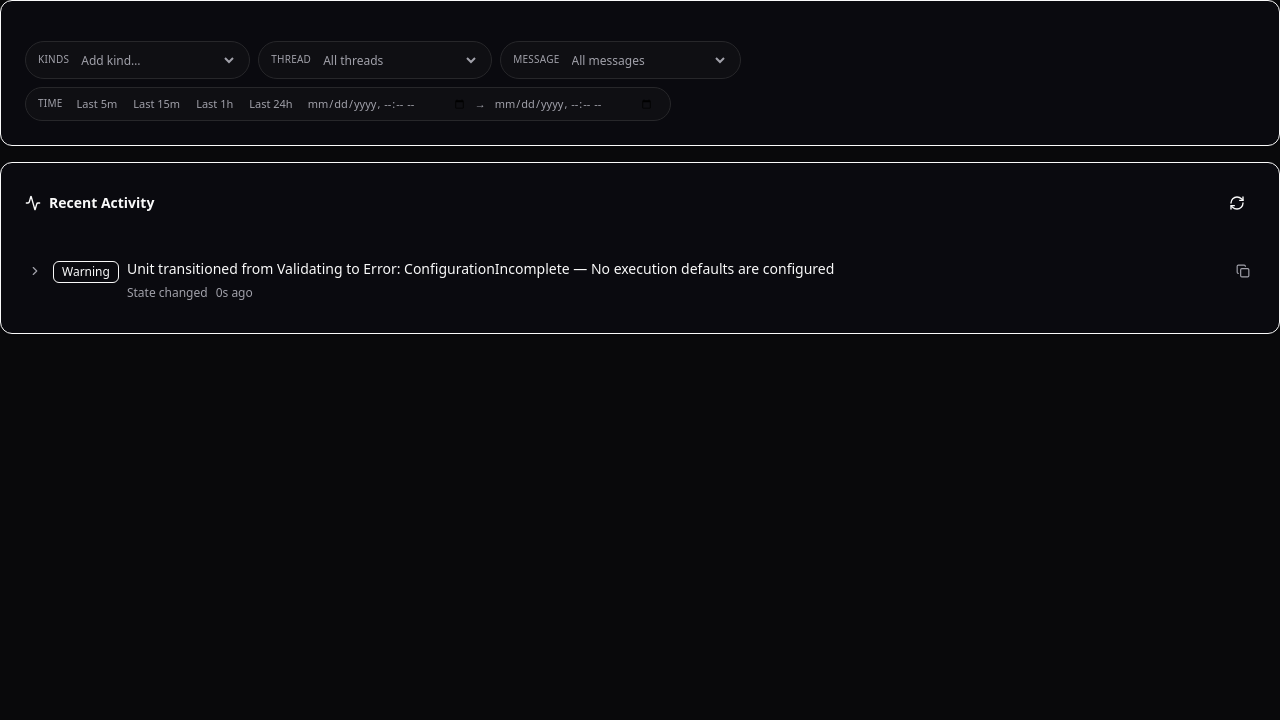
Scenario: ActivityTab (Unit subject) › renders an expand toggle for events with details and reveals payload on click
The image size is (1280, 720).
What coordinates should you click on to do the following:
click the button with test id "activity-row-toggle"
I would click on:
 (35, 271)
Its box is [25,261,45,281].
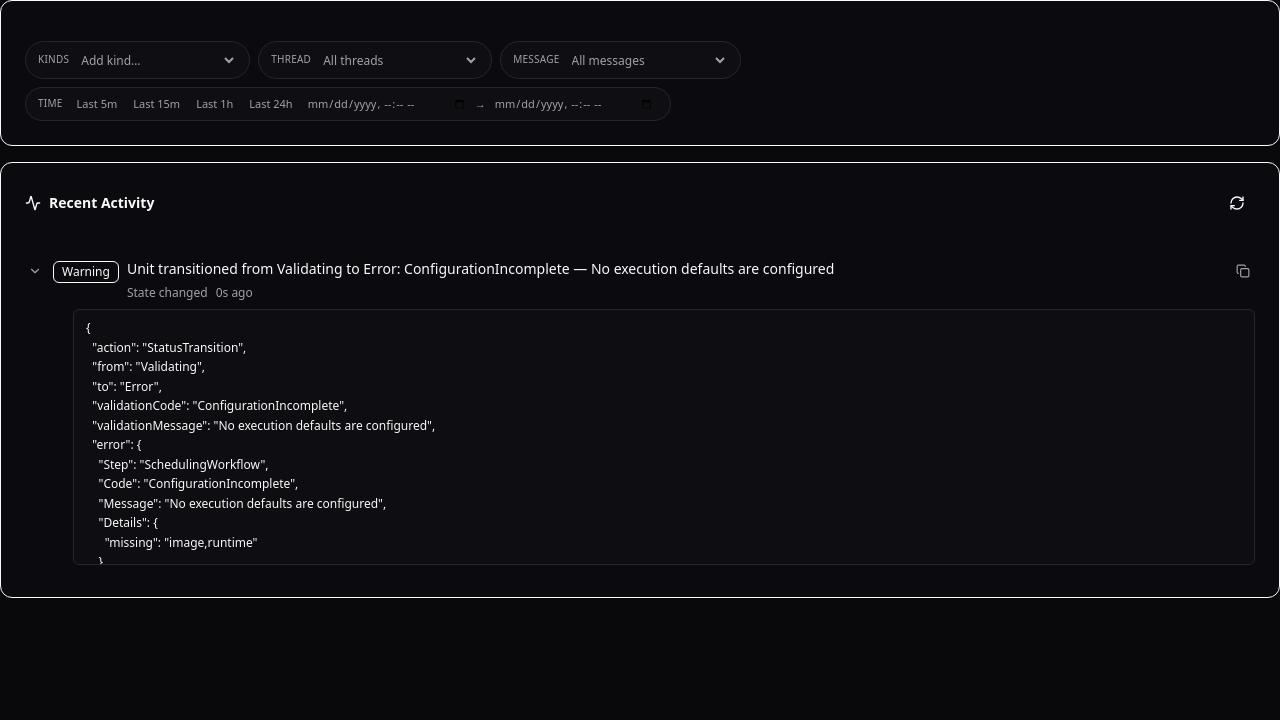
Now the button with test id "activity-row-toggle" is expanded
Now the text with test id "activity-row-details" shows "\"validationCode\": \"ConfigurationIncomplete\"", box [86,319,435,609]
Now the text with test id "activity-row-details" shows "\"missing\": \"image,runtime\"", box [86,319,435,609]
What coordinates should you click on to do the following:
click the button with test id "activity-row-toggle"
I would click on:
 (35, 271)
Its box is [25,261,45,281].
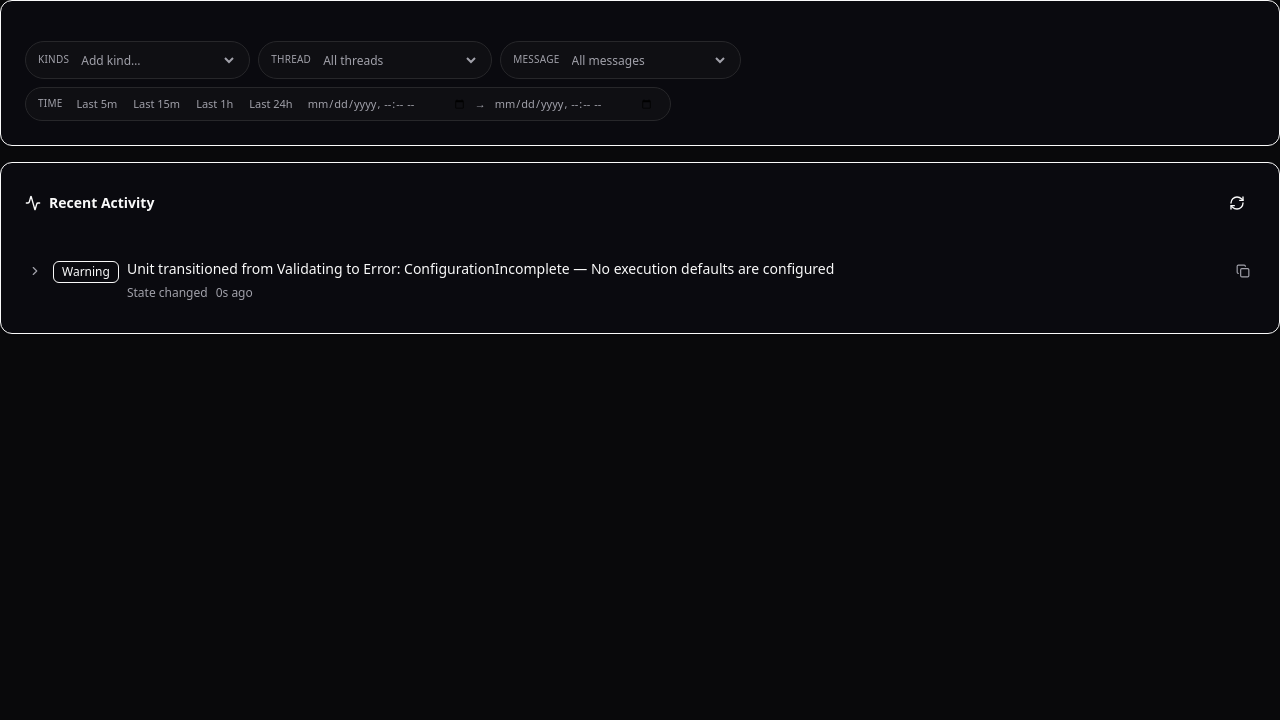
Now the button with test id "activity-row-toggle" is collapsed, box [25,261,45,281]
Now the text with test id "activity-row-details" is gone
